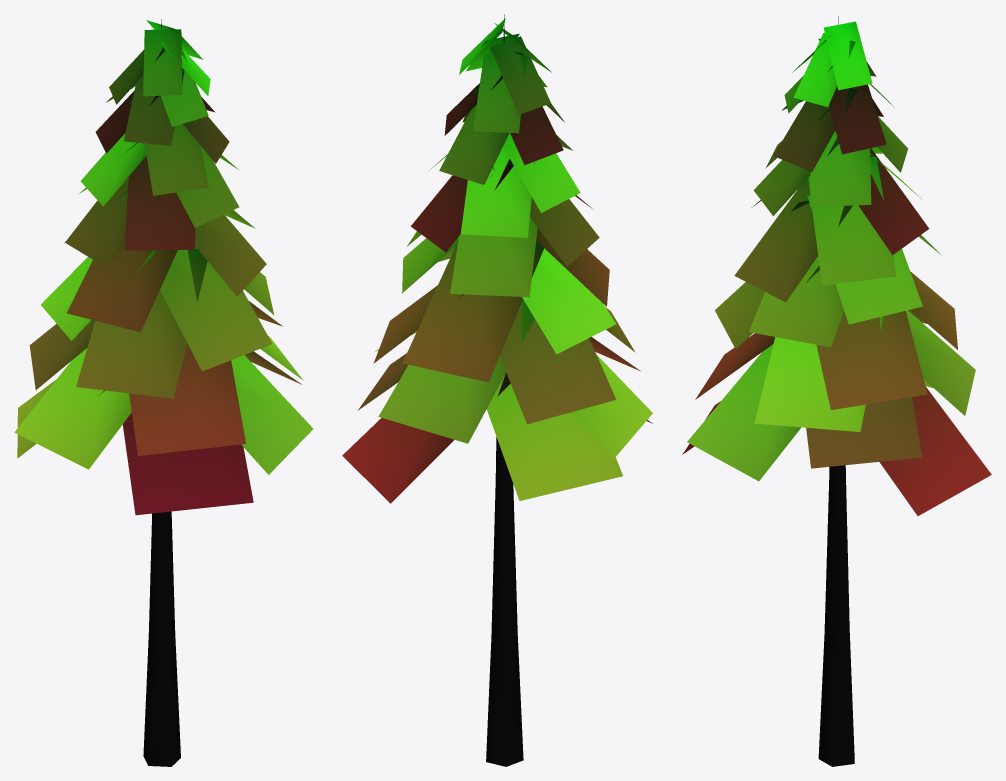
File: SuperPine_1_8.fbx
3 views of the same model, side by side, from view 1: azimuth 30°, elevation 25°; view 2: azimuth 150°, elevation 25°; view 3: azimuth 270°, elevation 25° (orthographic).
Parts seen in each view (by area): view 1: SuperPine_1_8; view 2: SuperPine_1_8; view 3: SuperPine_1_8.
Part boxes in pixels (left/top/right/bottom): SuperPine_1_8: left=14, top=19, right=313, bottom=766; SuperPine_1_8: left=342, top=14, right=652, bottom=766; SuperPine_1_8: left=682, top=16, right=991, bottom=766.
Bounding box in the file's own units: 274 × 750 × 283.
